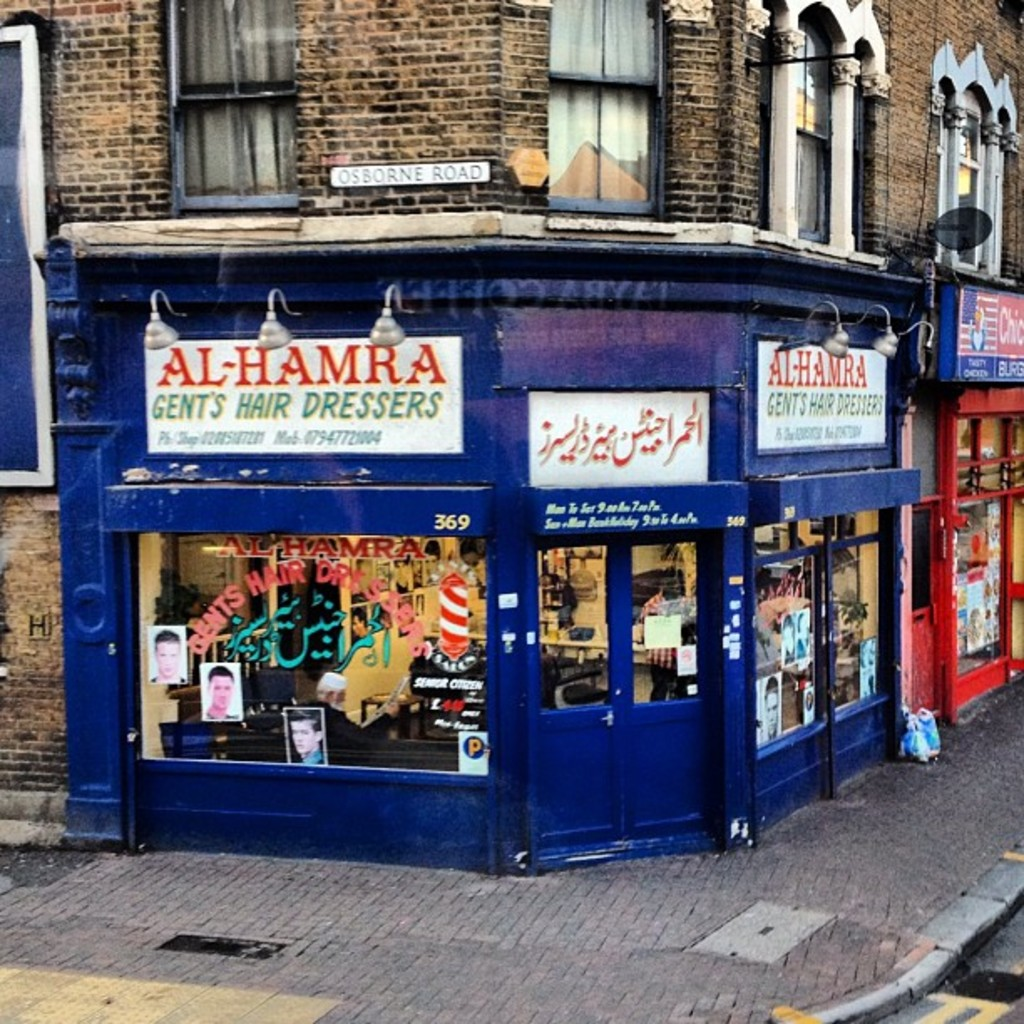Person: (147, 626, 187, 687), (199, 670, 241, 725), (292, 712, 324, 770), (763, 676, 785, 746), (778, 614, 798, 669), (798, 613, 813, 666)
